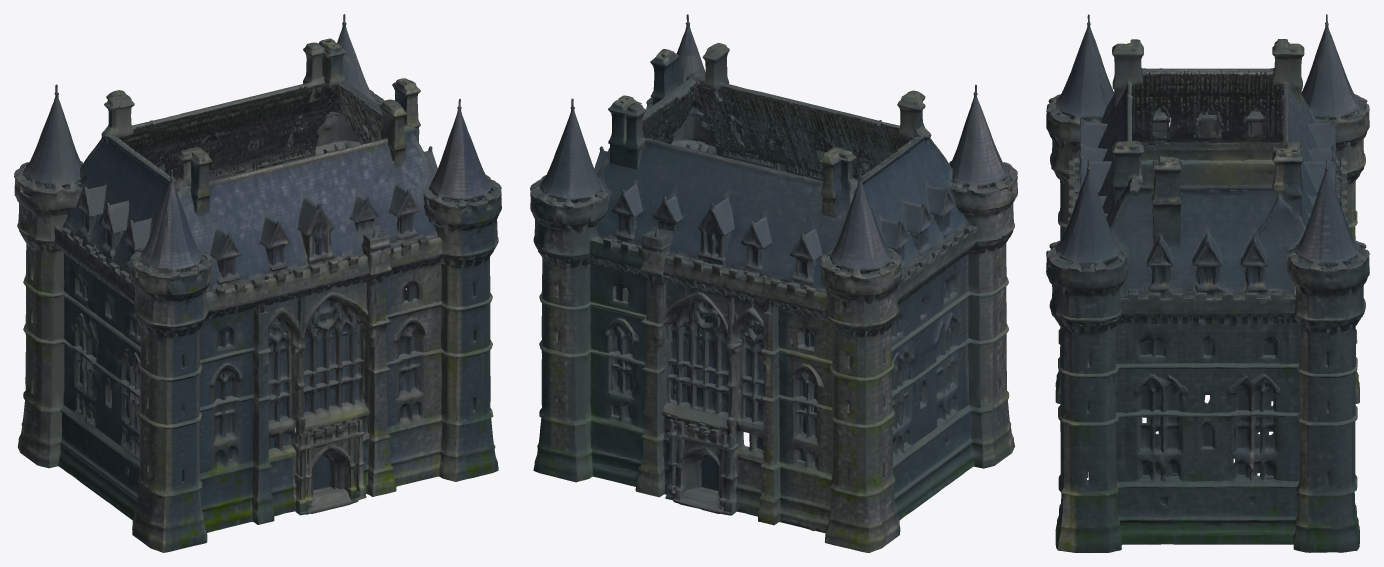
3 renders of one model, left to right at view 1: azimuth 30°, elevation 25°; view 2: azimuth 150°, elevation 25°; view 3: azimuth 270°, elevation 25°, orthographic. The views are drawn at different scales.
Parts seen in each view (by area): view 1: geometry_0; view 2: geometry_0; view 3: geometry_0.
Boxes of the visible parts, bbox=[...] form: geometry_0: bbox=[14, 14, 501, 552]; geometry_0: bbox=[530, 14, 1017, 552]; geometry_0: bbox=[1046, 14, 1369, 552].
Size of the model in its own units: 55.92 by 55 by 42.3.
1 material, 1 textured.
